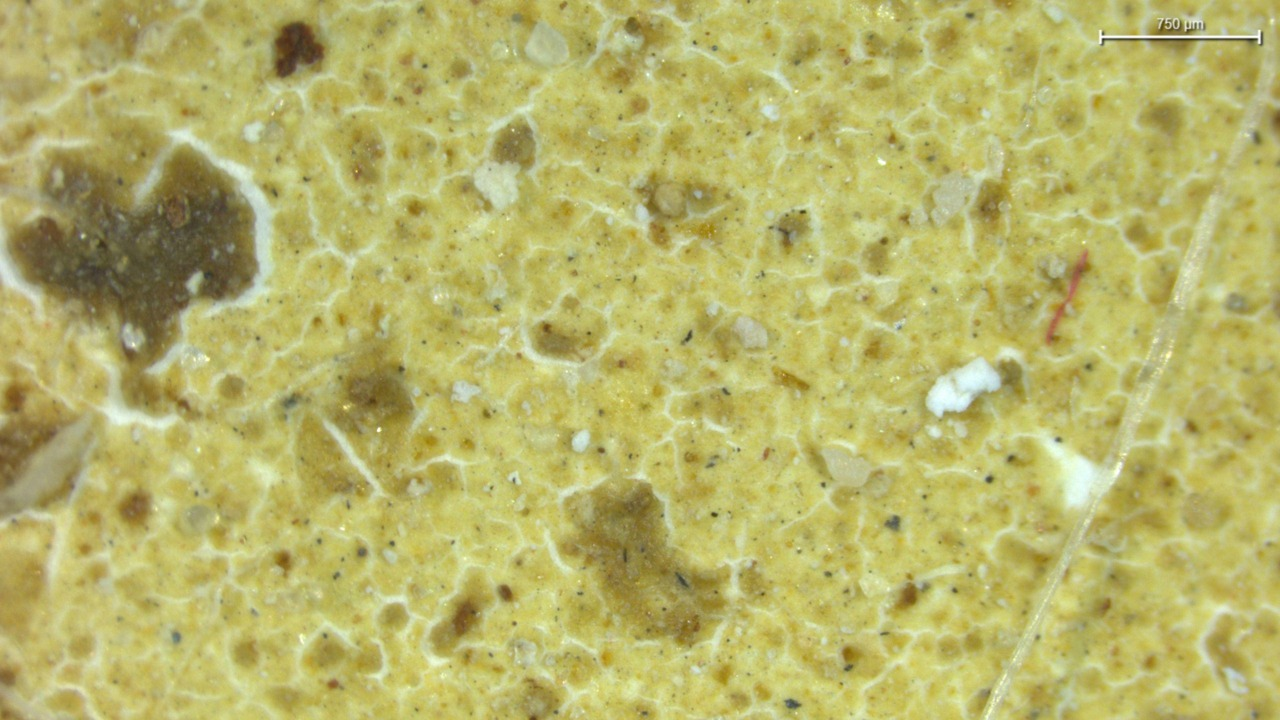microplastic_fragment: (926, 357, 1000, 418), (821, 446, 871, 487)
